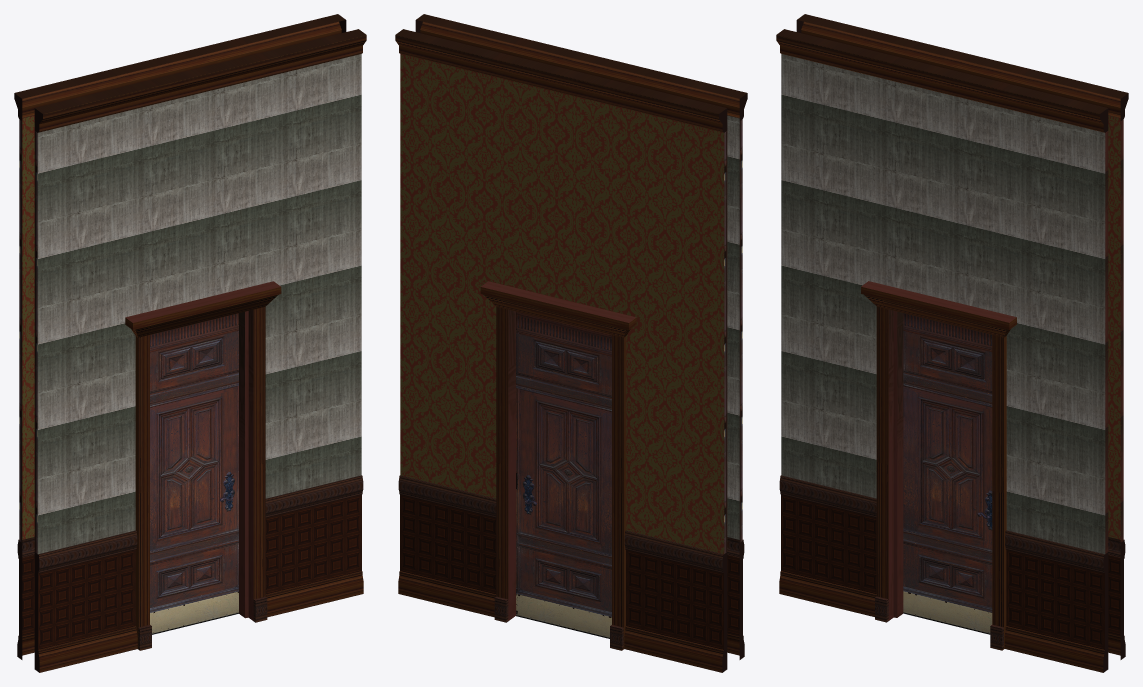
Rendered from Tall_Door1.fbx.
3 views of the same model, side by side, from view 1: azimuth 30°, elevation 25°; view 2: azimuth 150°, elevation 25°; view 3: azimuth 330°, elevation 25° (orthographic).
Parts seen in each view (by area): view 1: WallSectionDiningRoom_Door, TallDoor; view 2: WallSectionDiningRoom_Door, TallDoor; view 3: WallSectionDiningRoom_Door, TallDoor.
Part boxes in pixels (x1,y1,x2,y2): WallSectionDiningRoom_Door: (14,14,366,672); TallDoor: (150,313,238,634); WallSectionDiningRoom_Door: (395,14,747,672); TallDoor: (516,311,611,638); WallSectionDiningRoom_Door: (776,14,1128,672); TallDoor: (903,313,992,634).
Bounding box in the file's own units: 369 × 612 × 67.02.
